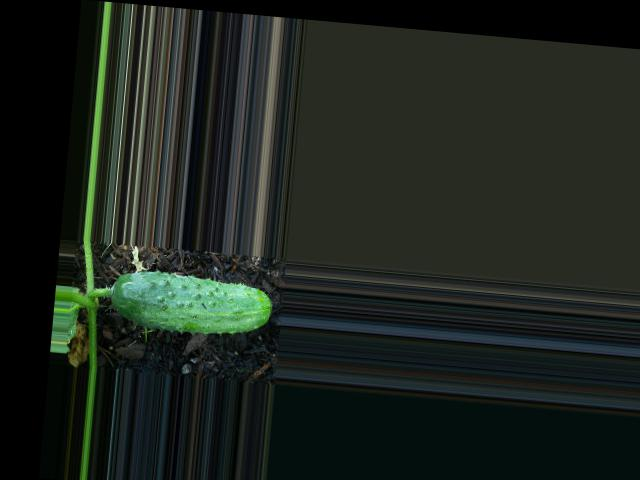cucumber: (108, 267, 275, 340)
